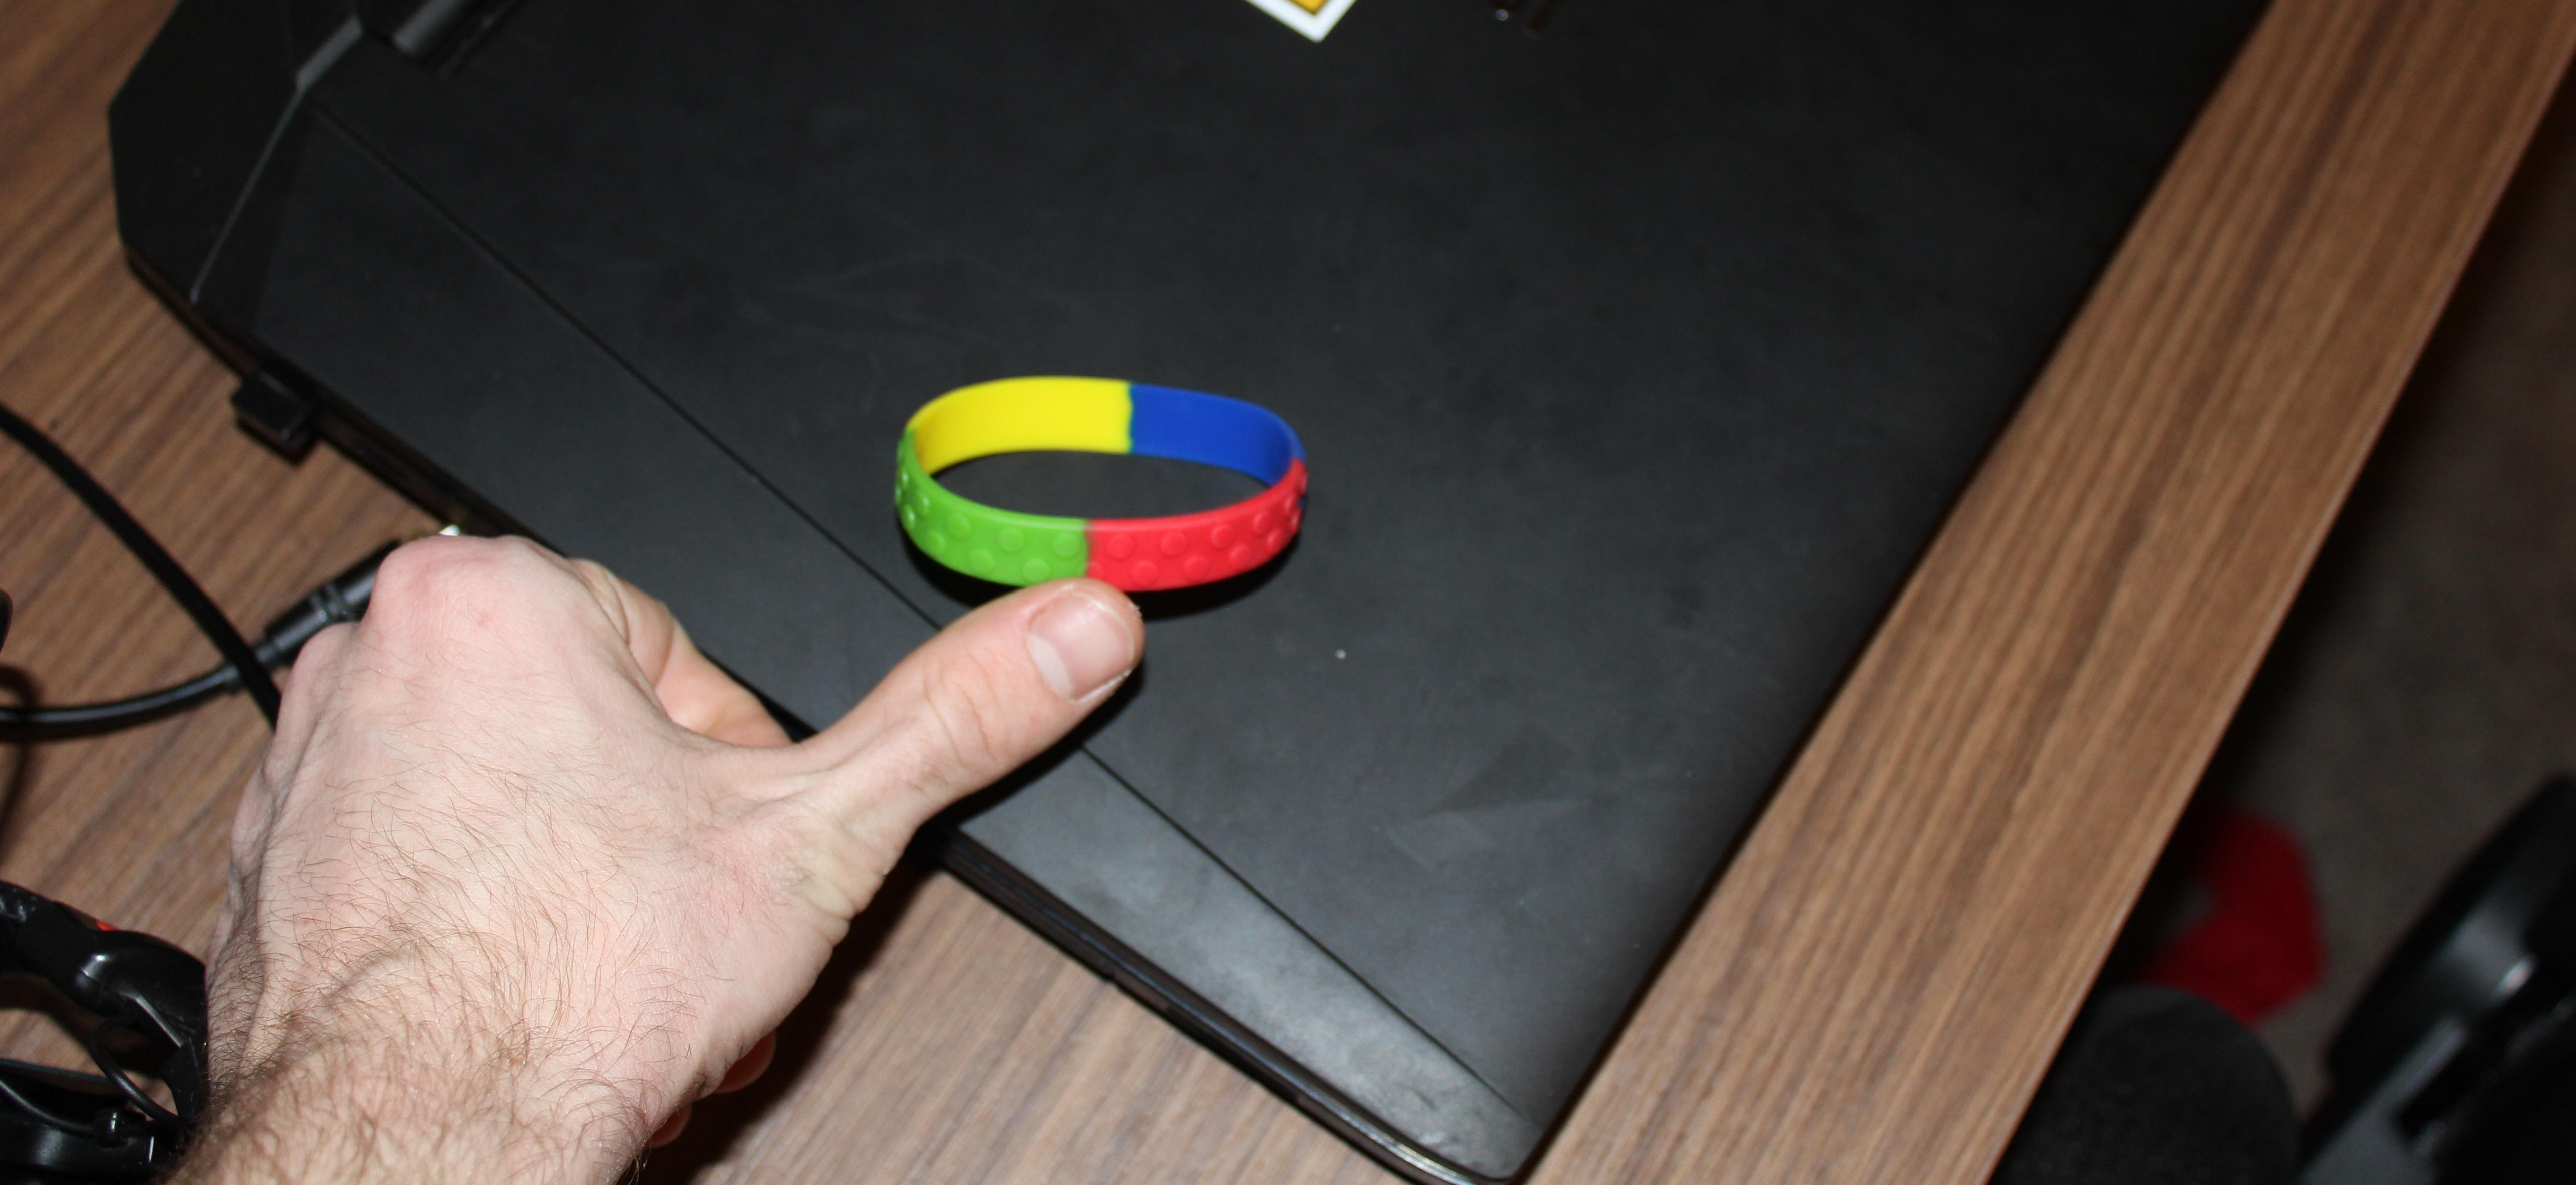legoBracelet: (858, 358, 1344, 608)
